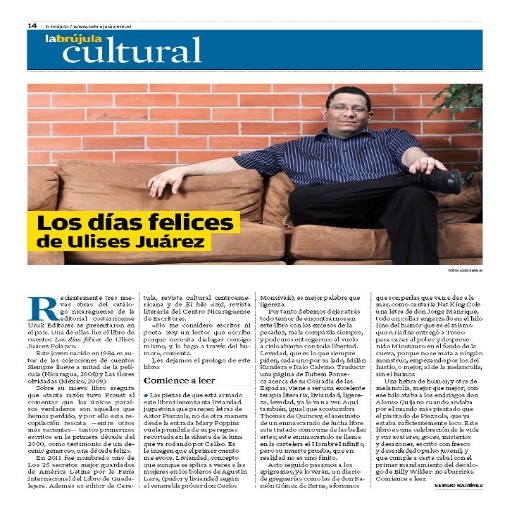hand: (145, 152, 207, 190), (406, 155, 447, 176)
